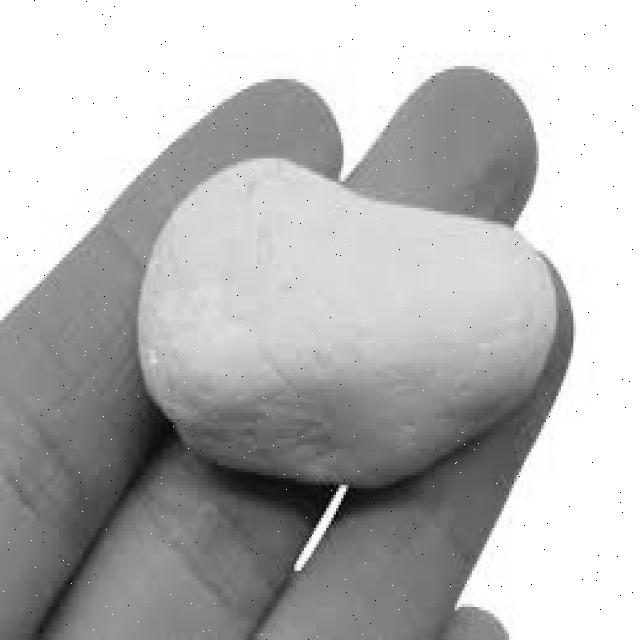Metamorphic: (138, 145, 561, 482)
